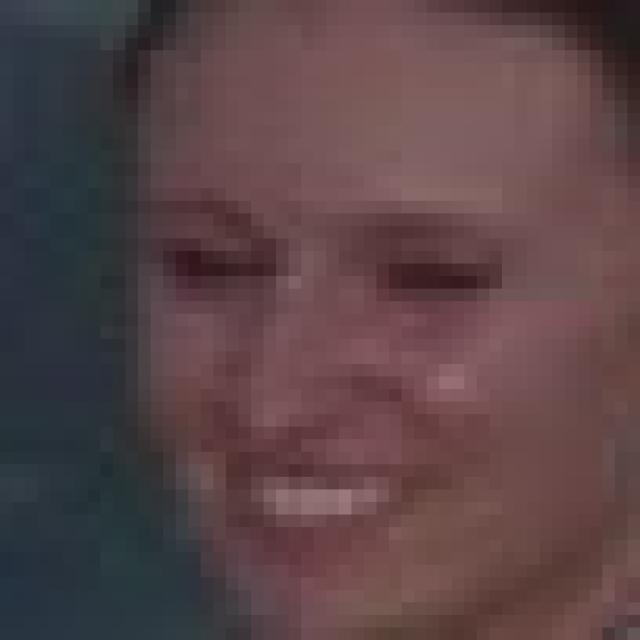Eyeclosed: (372, 244, 495, 304), (174, 234, 265, 291)
